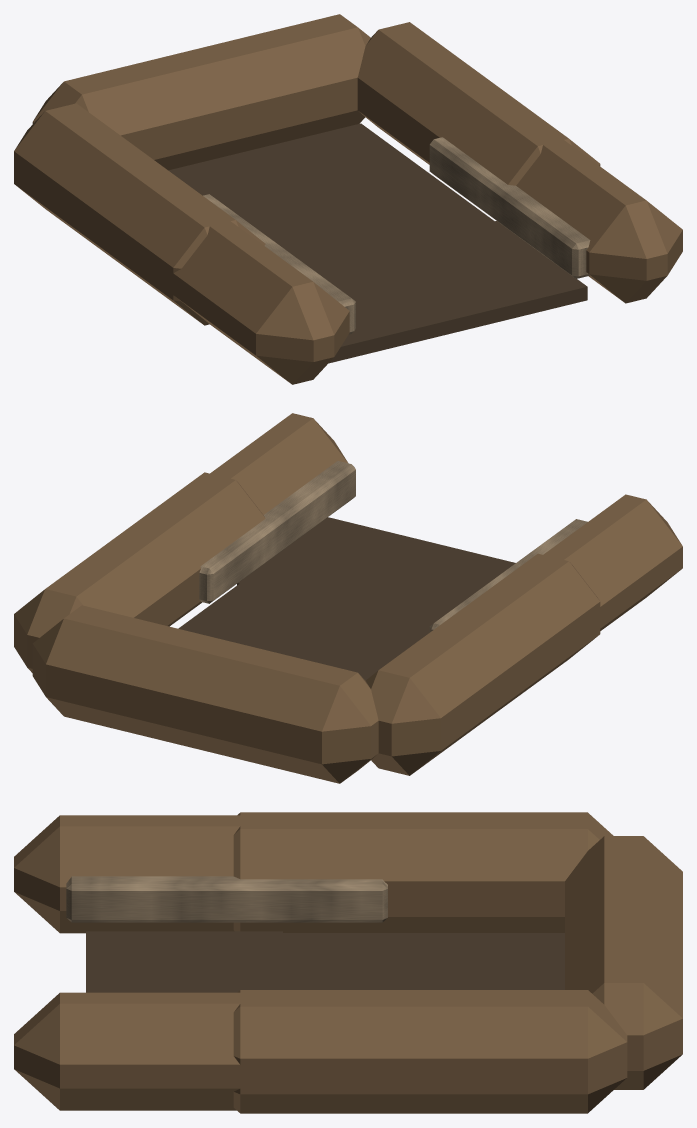
The model's file is trench_end.glb.
3 views of the same model, one above another, from view 1: azimuth 30°, elevation 25°; view 2: azimuth 150°, elevation 25°; view 3: azimuth 270°, elevation 25° (orthographic). The views are drawn at different scales.
Parts seen in each view (by area): view 1: trench_end__Earth_revetment, trench_end__Trench_dark_earth, trench_end__Timber_worn_edges; view 2: trench_end__Earth_revetment, trench_end__Trench_dark_earth, trench_end__Timber_worn_edges; view 3: trench_end__Earth_revetment, trench_end__Trench_dark_earth, trench_end__Timber_worn_edges.
Boxes of the visible parts, <box> form: trench_end__Earth_revetment: <box>14,14,682,384</box>; trench_end__Trench_dark_earth: <box>168,123,587,363</box>; trench_end__Timber_worn_edges: <box>203,137,590,334</box>; trench_end__Earth_revetment: <box>14,413,682,783</box>; trench_end__Trench_dark_earth: <box>178,517,515,680</box>; trench_end__Timber_worn_edges: <box>199,461,587,632</box>; trench_end__Earth_revetment: <box>14,812,682,1113</box>; trench_end__Trench_dark_earth: <box>86,931,564,992</box>; trench_end__Timber_worn_edges: <box>66,876,387,922</box>.
Size of the model in its own units: 0.82 by 0.18 by 1.02.
Materials: 3 (1 with a texture image).
